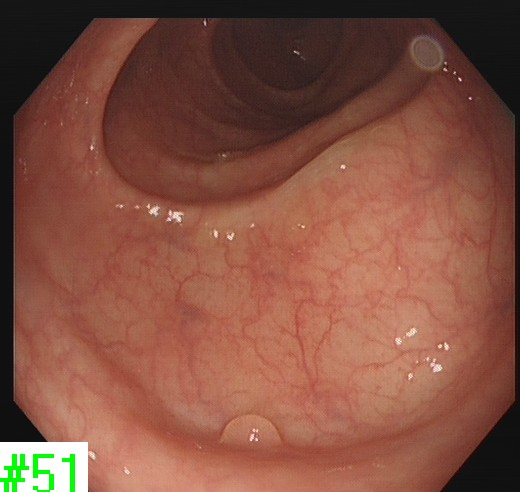adenoma: (215, 410, 285, 448)
